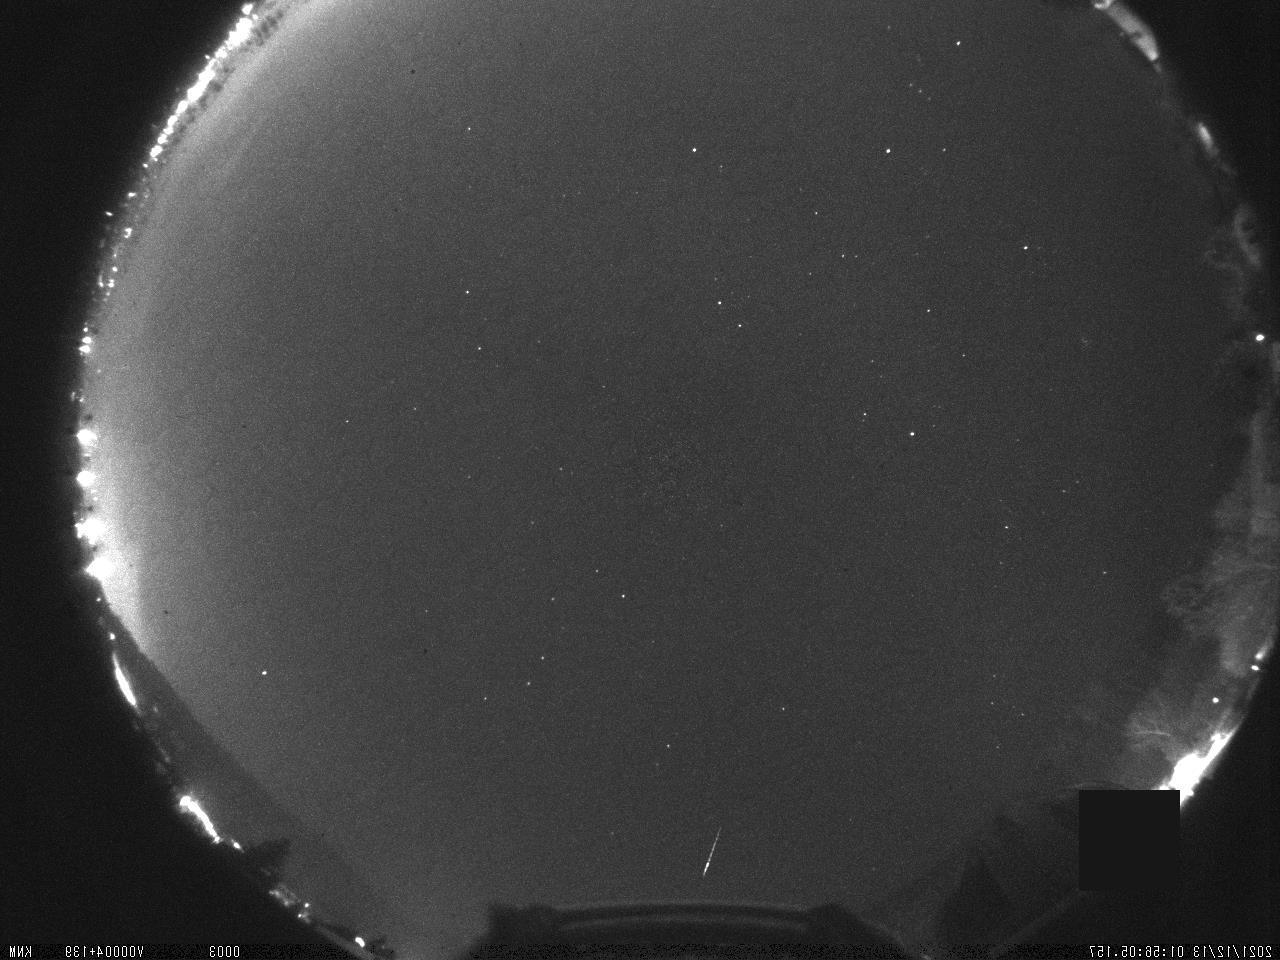meteor: (697, 816, 735, 881)
